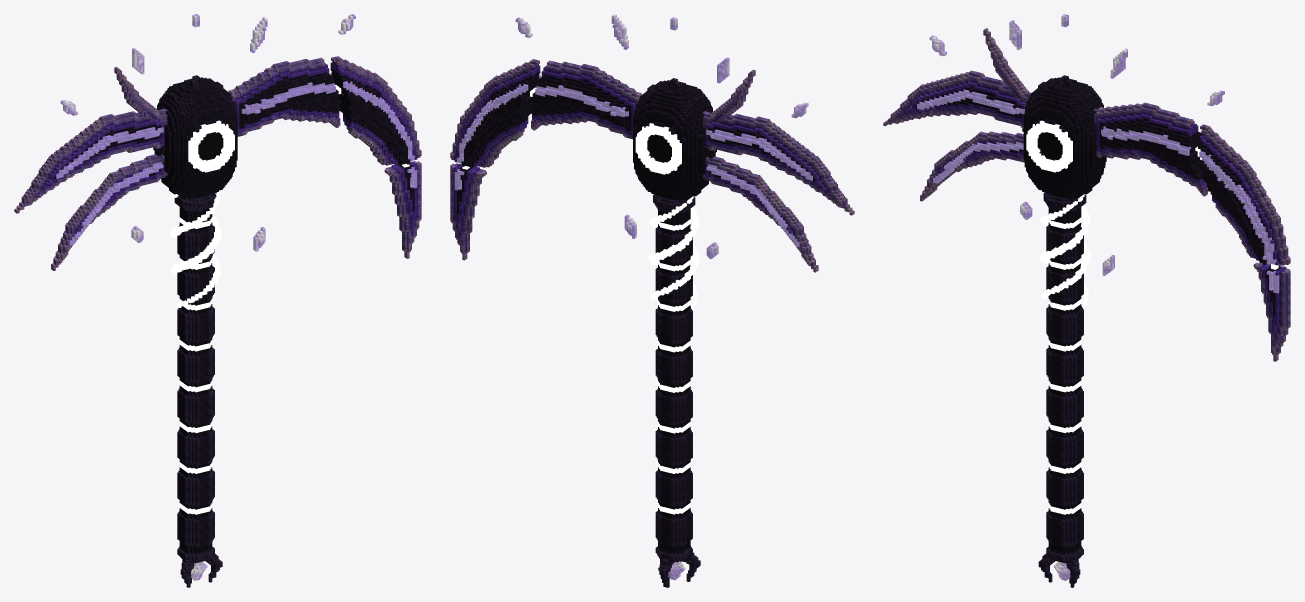
The model's file is PiocheNeant.glb.
3 renders of one model, left to right at view 1: azimuth 30°, elevation 25°; view 2: azimuth 150°, elevation 25°; view 3: azimuth 330°, elevation 25°, orthographic.
Visible parts, largest first — view 1: PiocheNeant_Tete_FerNoira, PiocheNeant_Tete_FerNoirb, PiocheNeant_Manche_FerNoir, PiocheNeant_Tete_Cristal, PiocheNeant_Manche_Lueur, PiocheNeant_Tete_Lueur; view 2: PiocheNeant_Tete_FerNoira, PiocheNeant_Tete_FerNoirb, PiocheNeant_Manche_FerNoir, PiocheNeant_Tete_Cristal, PiocheNeant_Manche_Lueur, PiocheNeant_Tete_Lueur; view 3: PiocheNeant_Tete_FerNoirb, PiocheNeant_Manche_FerNoir, PiocheNeant_Tete_FerNoira, PiocheNeant_Tete_Cristal, PiocheNeant_Manche_Lueur, PiocheNeant_Tete_Lueur.
Boxes of the visible parts, <box> form: PiocheNeant_Tete_FerNoira: <box>14,67,234,270</box>; PiocheNeant_Tete_FerNoirb: <box>227,56,421,258</box>; PiocheNeant_Manche_FerNoir: <box>174,192,222,587</box>; PiocheNeant_Tete_Cristal: <box>56,14,417,251</box>; PiocheNeant_Manche_Lueur: <box>170,190,221,514</box>; PiocheNeant_Tete_Lueur: <box>188,84,409,172</box>; PiocheNeant_Tete_FerNoira: <box>636,69,854,272</box>; PiocheNeant_Tete_FerNoirb: <box>450,59,642,260</box>; PiocheNeant_Manche_FerNoir: <box>653,194,700,587</box>; PiocheNeant_Tete_Cristal: <box>454,14,812,258</box>; PiocheNeant_Manche_Lueur: <box>649,196,699,514</box>; PiocheNeant_Tete_Lueur: <box>462,87,681,174</box>; PiocheNeant_Tete_FerNoirb: <box>1075,93,1290,361</box>; PiocheNeant_Manche_FerNoir: <box>1038,192,1086,587</box>; PiocheNeant_Tete_FerNoira: <box>883,28,1101,201</box>; PiocheNeant_Tete_Cristal: <box>917,14,1283,293</box>; PiocheNeant_Manche_Lueur: <box>1039,194,1090,514</box>; PiocheNeant_Tete_Lueur: <box>1026,120,1278,269</box>.
Bounding box in the file's own units: 6.64 × 8.88 × 0.96.
4 materials, 2 textured.
